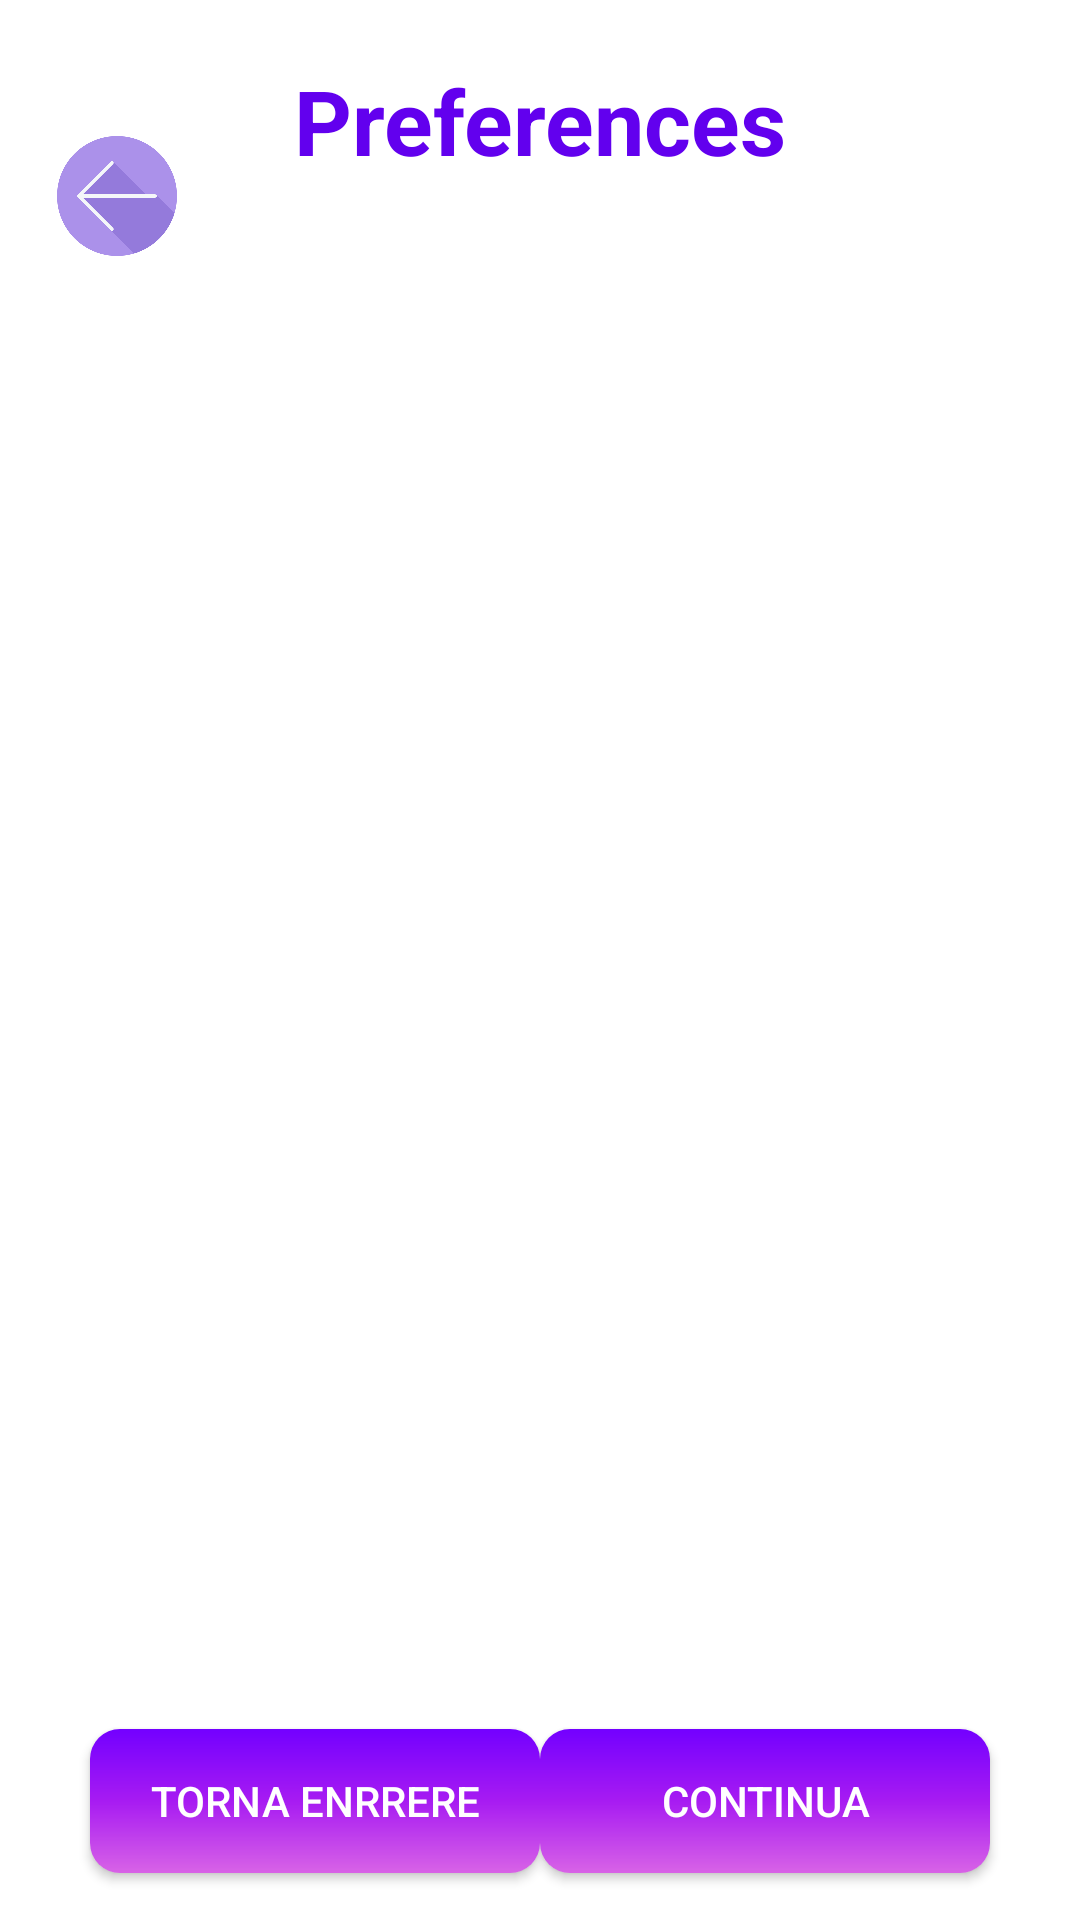

Named icons in this screenshot (1080x1920) and their centers, point (x, y):
back: point (117, 196)
